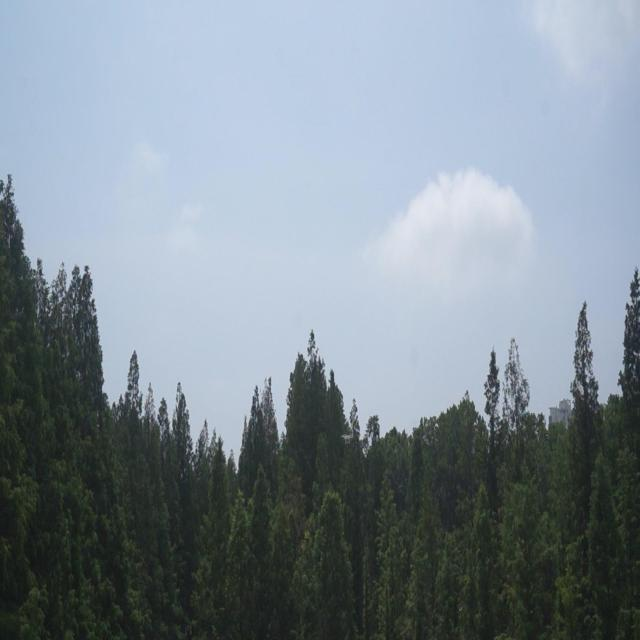drone: (342, 428, 354, 444)
